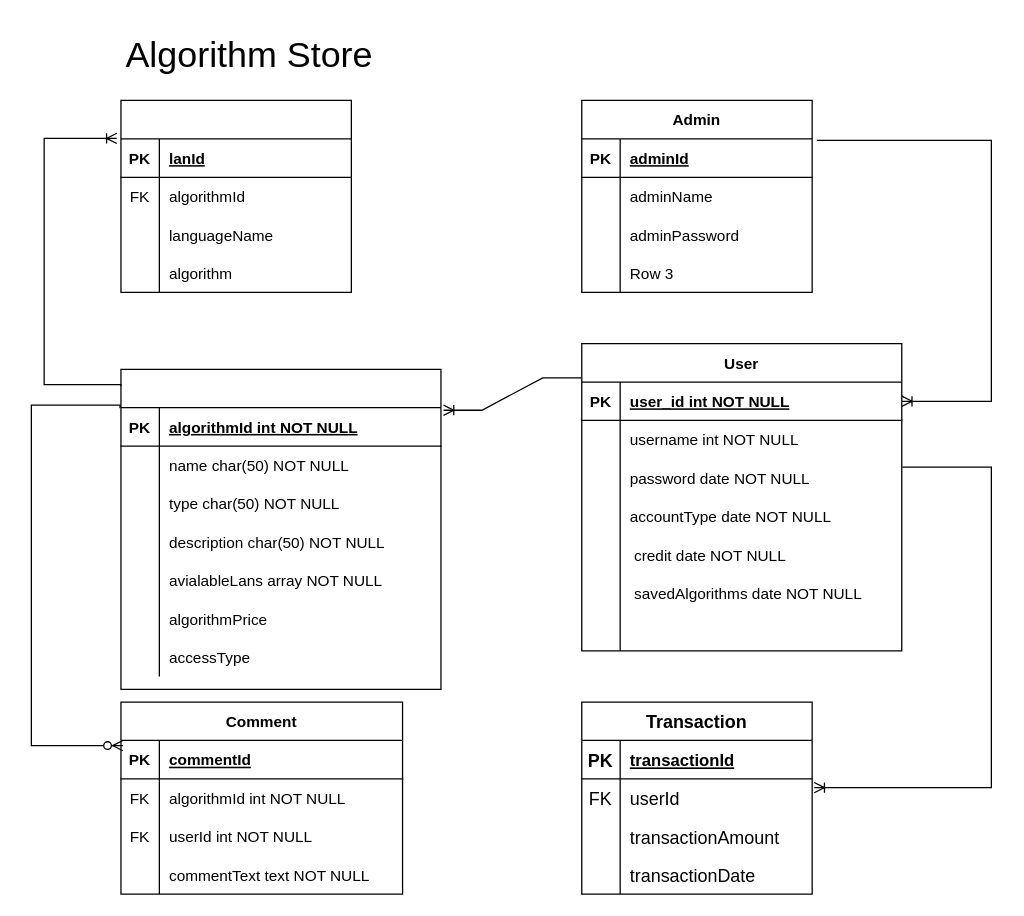
This 1024x916 diagram has some shape labels left out. The shapes that lost their labels are listed below. From the top down, each one's box as (x1, y1, x2, y2) in pixels, then its label:
(120, 99, 351, 292): Languages
(120, 368, 441, 689): Algoithm
